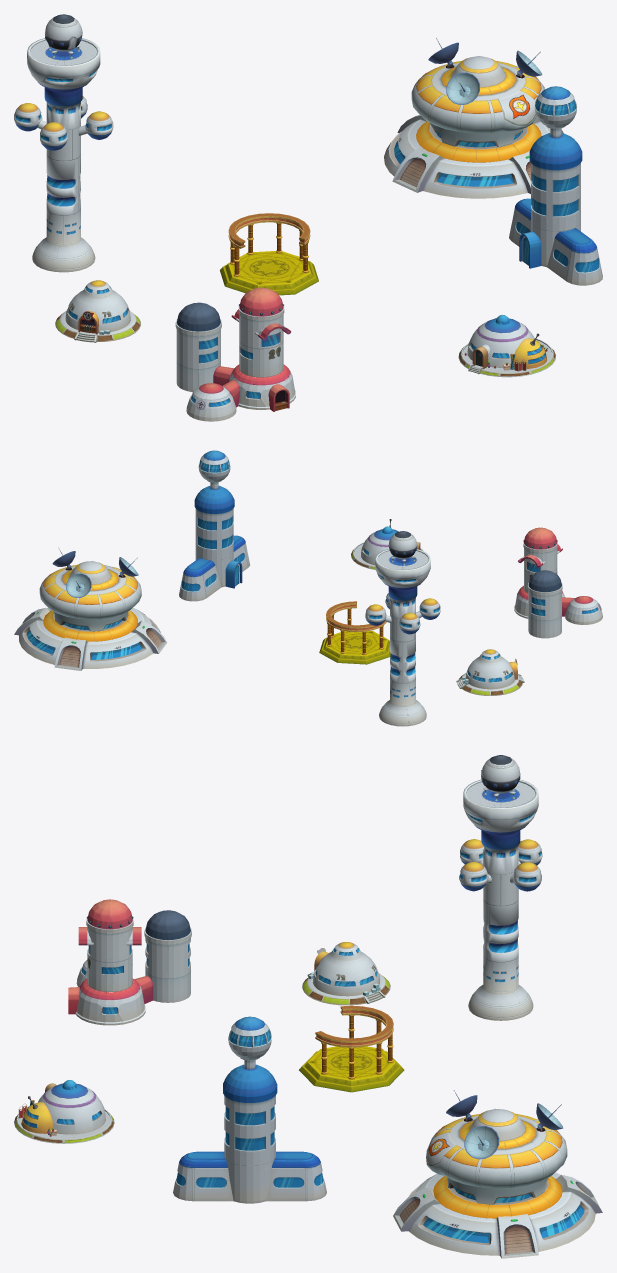
The model's file is zhucheng_jianzhu02.FBX.
The picture shows the model from 3 angles, top to bottom: view 1: azimuth 30°, elevation 25°; view 2: azimuth 150°, elevation 25°; view 3: azimuth 270°, elevation 25°; orthographic projection. The views are drawn at different scales.
Parts seen in each view (by area): view 1: diqiuzhucheng_jianzhu_12, diqiuzhucheng_jianzhu_01, diqiuzhucheng_jianzhu_15, diqiuzhucheng_jianzhu_16, diqiuzhucheng_jianzhu_07, diqiuzhucheng_jianzhu_03, diqiuzhucheng_jianzhu_02; view 2: diqiuzhucheng_jianzhu_12, diqiuzhucheng_jianzhu_01, diqiuzhucheng_jianzhu_16, diqiuzhucheng_jianzhu_15, diqiuzhucheng_jianzhu_07, diqiuzhucheng_jianzhu_02, diqiuzhucheng_jianzhu_03; view 3: diqiuzhucheng_jianzhu_12, diqiuzhucheng_jianzhu_01, diqiuzhucheng_jianzhu_16, diqiuzhucheng_jianzhu_15, diqiuzhucheng_jianzhu_07, diqiuzhucheng_jianzhu_03, diqiuzhucheng_jianzhu_02.
Part boxes in pixels (x1=…): diqiuzhucheng_jianzhu_12: x1=384, y1=38, x2=563, y2=198; diqiuzhucheng_jianzhu_01: x1=14, y1=14, x2=113, y2=272; diqiuzhucheng_jianzhu_15: x1=175, y1=287, x2=295, y2=421; diqiuzhucheng_jianzhu_16: x1=509, y1=86, x2=602, y2=285; diqiuzhucheng_jianzhu_07: x1=220, y1=213, x2=318, y2=295; diqiuzhucheng_jianzhu_03: x1=458, y1=315, x2=555, y2=377; diqiuzhucheng_jianzhu_02: x1=55, y1=280, x2=140, y2=342; diqiuzhucheng_jianzhu_12: x1=14, y1=547, x2=167, y2=670; diqiuzhucheng_jianzhu_01: x1=365, y1=531, x2=440, y2=726; diqiuzhucheng_jianzhu_16: x1=179, y1=450, x2=250, y2=601; diqiuzhucheng_jianzhu_15: x1=514, y1=527, x2=602, y2=638; diqiuzhucheng_jianzhu_07: x1=319, y1=601, x2=390, y2=664; diqiuzhucheng_jianzhu_02: x1=456, y1=649, x2=524, y2=695; diqiuzhucheng_jianzhu_03: x1=351, y1=519, x2=422, y2=569; diqiuzhucheng_jianzhu_12: x1=393, y1=1090, x2=602, y2=1258; diqiuzhucheng_jianzhu_01: x1=459, y1=755, x2=542, y2=1020; diqiuzhucheng_jianzhu_16: x1=173, y1=1016, x2=326, y2=1203; diqiuzhucheng_jianzhu_15: x1=68, y1=899, x2=191, y2=1025; diqiuzhucheng_jianzhu_07: x1=299, y1=1005, x2=404, y2=1092; diqiuzhucheng_jianzhu_03: x1=14, y1=1080, x2=114, y2=1143; diqiuzhucheng_jianzhu_02: x1=302, y1=942, x2=390, y2=1005.
Size of the model in its own units: 12590 by 5047 by 10755.
